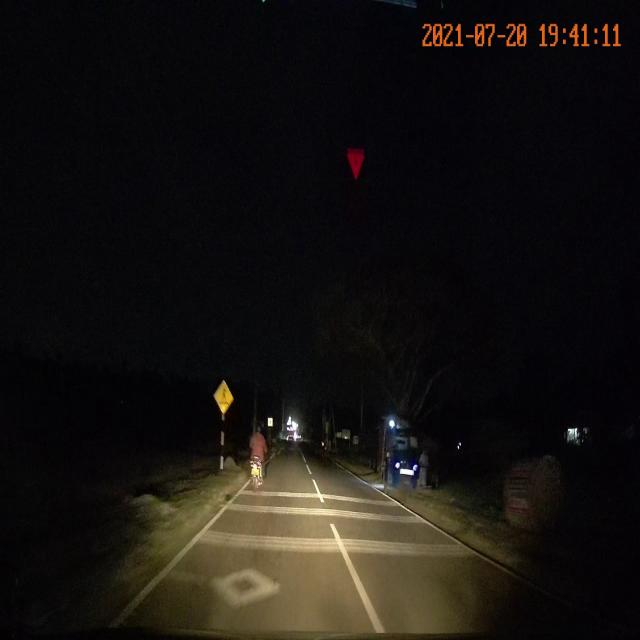diamond: (119, 548, 379, 616)
